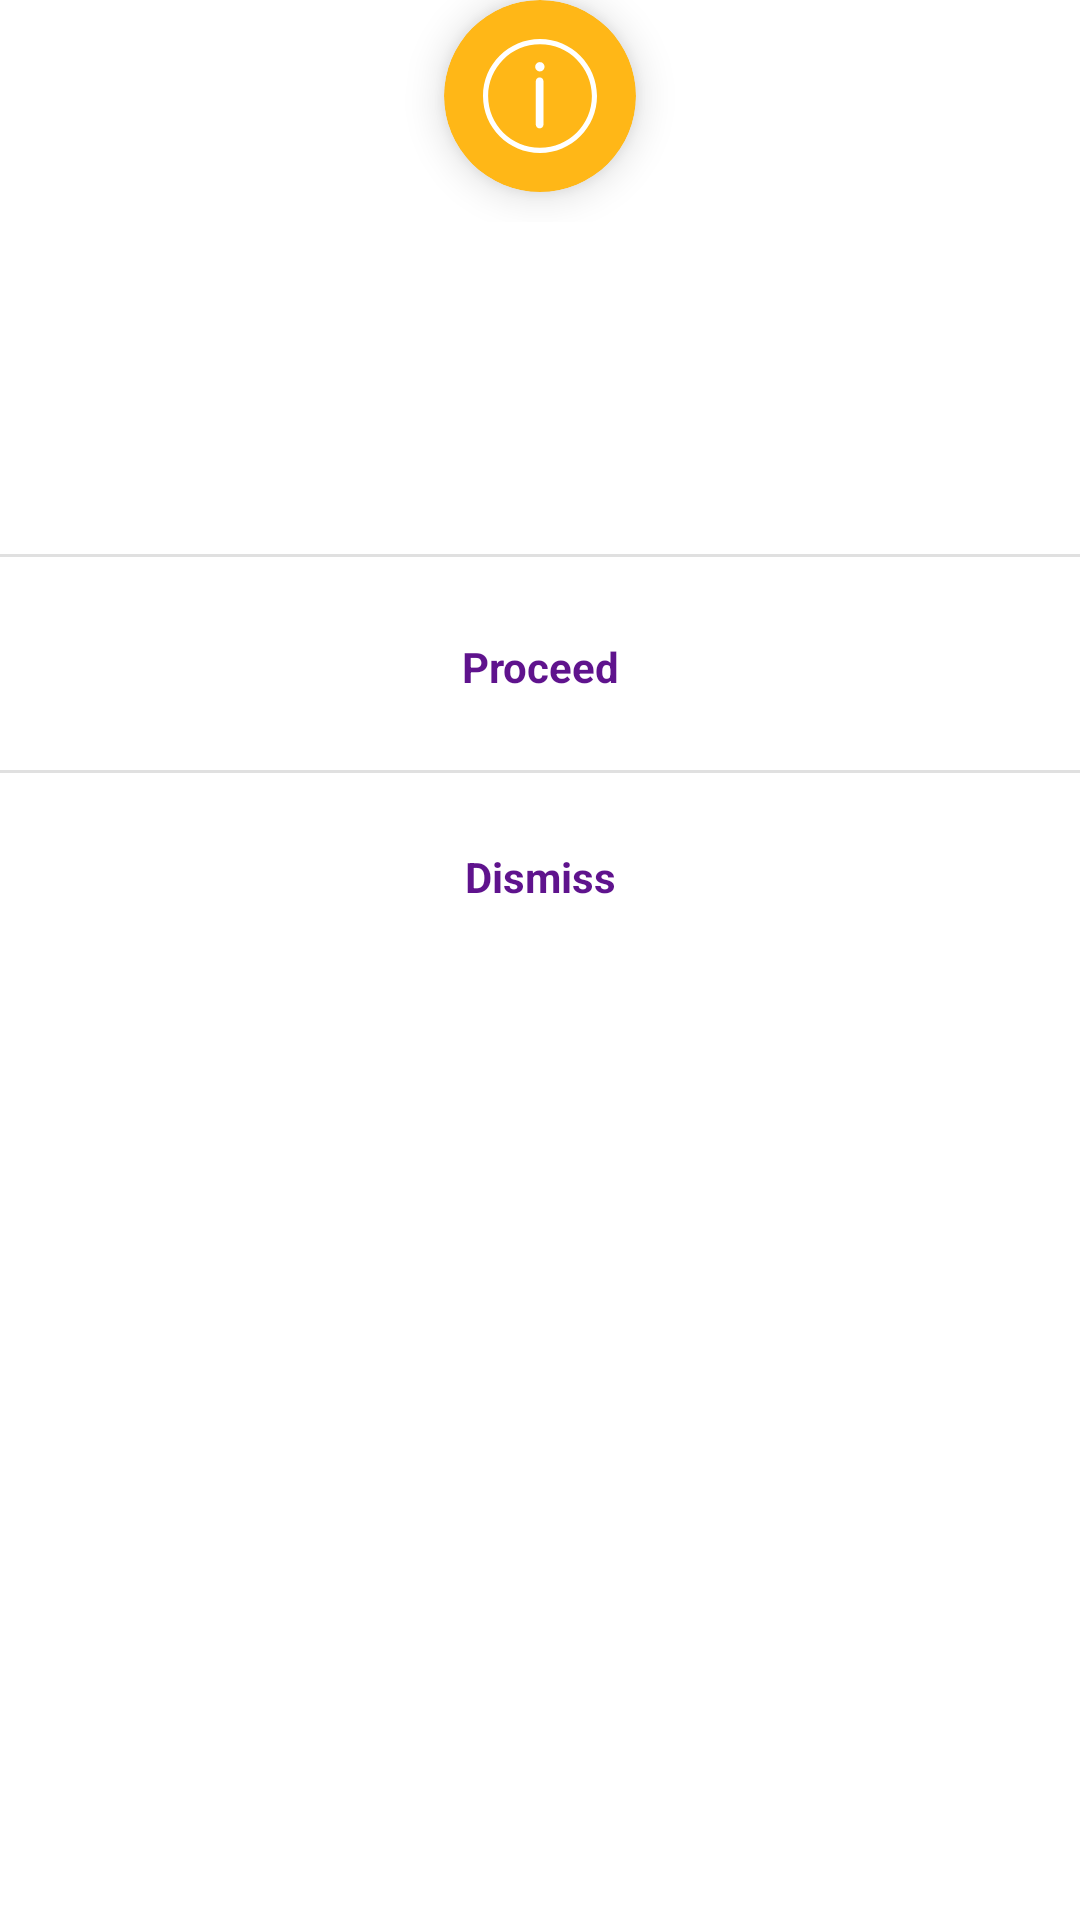

Where to tap for icons on this 1080×1920 app screen, as (x,y):
notice: (540,96)
